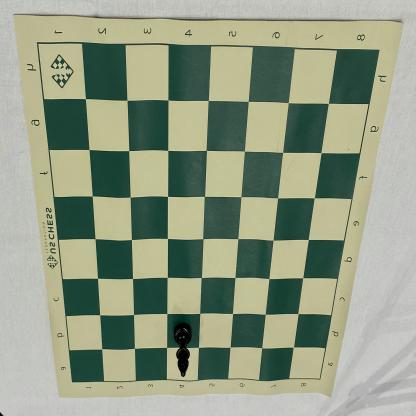black-bishop: (173, 322, 193, 378)
